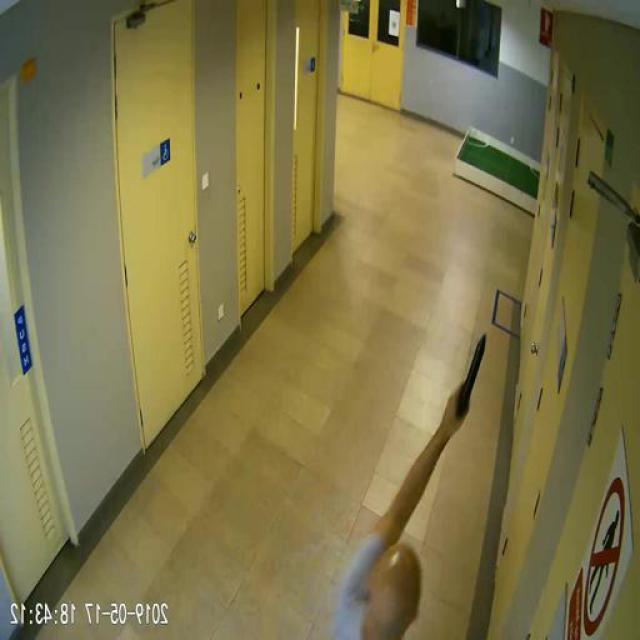Gun: (452, 332, 488, 426)
